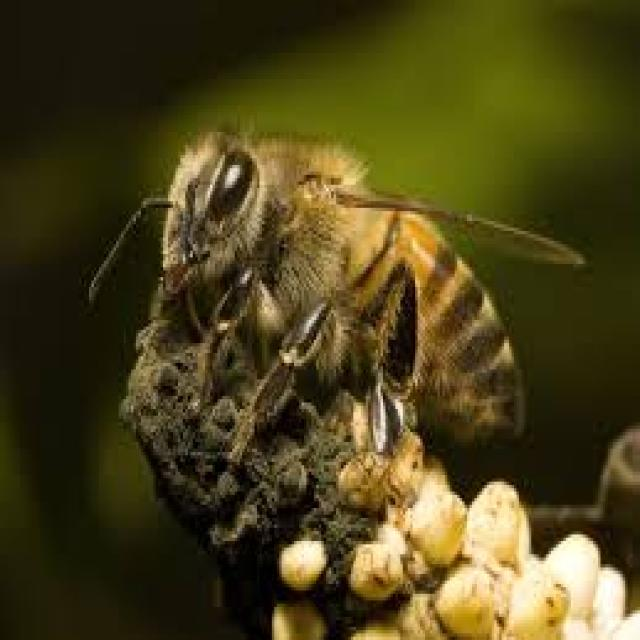Bees: (87, 119, 586, 514)
